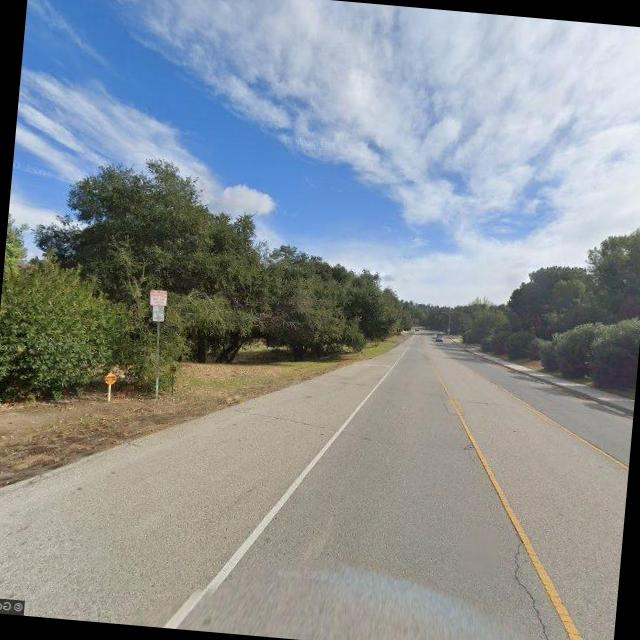crack: (503, 539, 564, 640), (232, 404, 339, 433)
